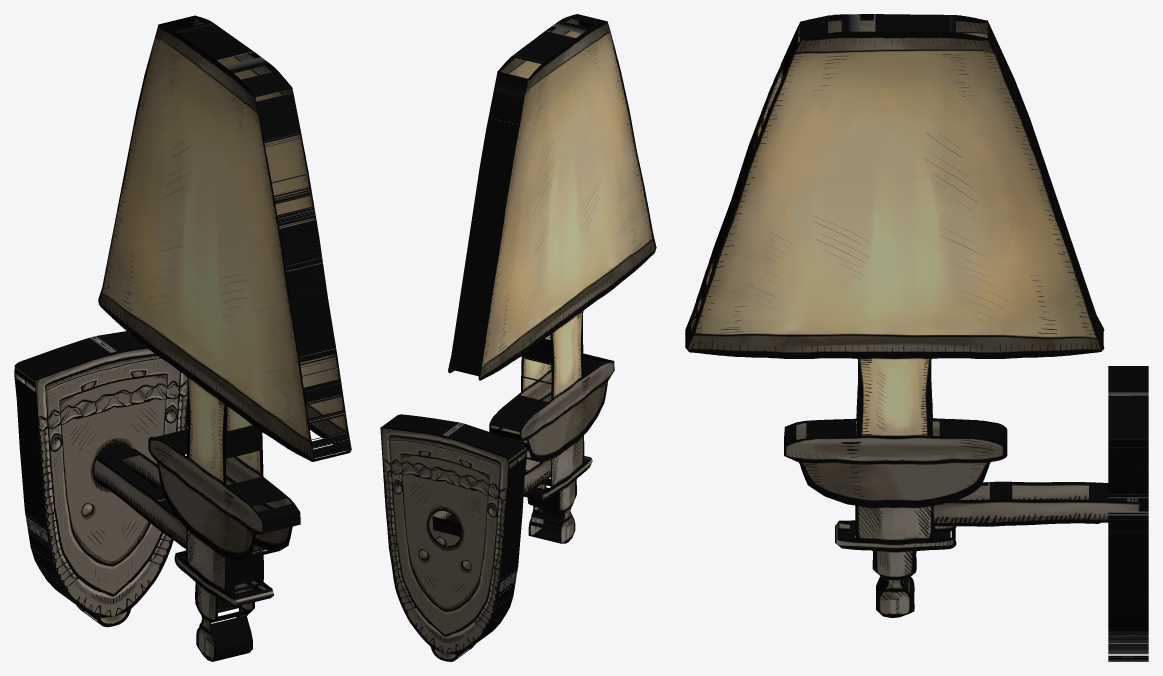
The model's file is Lamp_Wall.fbx.
The picture shows the model from 3 angles, left to right: view 1: azimuth 30°, elevation 25°; view 2: azimuth 150°, elevation 25°; view 3: azimuth 270°, elevation 25°; orthographic projection. The views are drawn at different scales.
Parts seen in each view (by area): view 1: Lamp_Wall_side, Lamp_Wall_front.001; view 2: Lamp_Wall_side, Lamp_Wall_front.001; view 3: Lamp_Wall_side, Lamp_Wall_front.001.
Boxes of the visible parts, left/top/right/bottom form: Lamp_Wall_side: left=94, top=15, right=351, bottom=661; Lamp_Wall_front.001: left=14, top=331, right=187, bottom=627; Lamp_Wall_side: left=432, top=14, right=656, bottom=543; Lamp_Wall_front.001: left=380, top=414, right=526, bottom=661; Lamp_Wall_side: left=685, top=14, right=1140, bottom=617; Lamp_Wall_front.001: left=1108, top=366, right=1148, bottom=661.
Bounding box in the file's own units: 24.04 × 96.09 × 63.39.
Materials: 2 (2 with a texture image).
